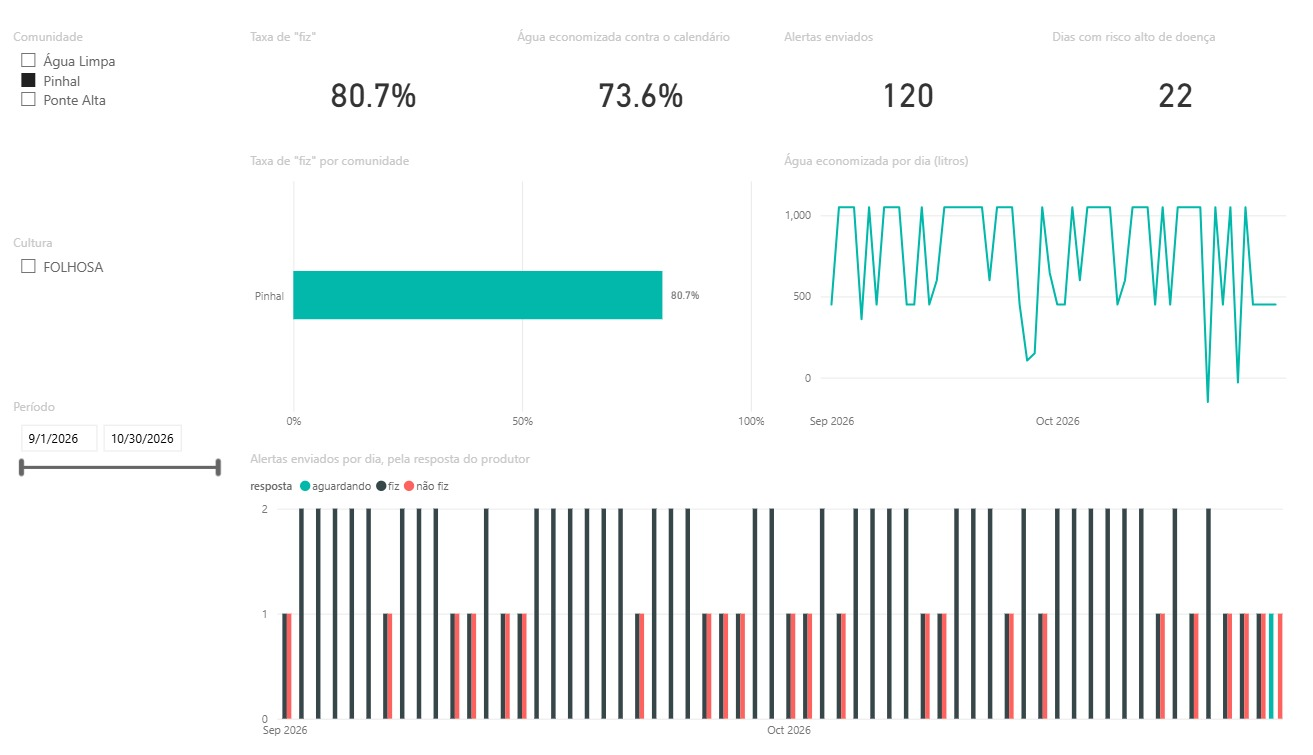

This screenshot's page, from the dashboard's own definition file:
{"tool":"powerbi","page":{"name":"Painel do técnico","canvas":[1280,720],"ordinal":0},"visuals":[{"type":"slicer","title":"Comunidade","fields":{"Values":["dim_canteiro.comunidade"]},"box":[10,10,220,190],"z":0},{"type":"slicer","title":"Cultura","fields":{"Values":["dim_canteiro.cultura"]},"box":[10,210,220,150],"z":1000},{"type":"slicer","title":"Período","fields":{"Values":["calendario.data"]},"box":[10,370,220,140],"z":2000},{"type":"card","title":"Taxa de \"fiz\"","fields":{"Values":["alertas.Taxa de fiz"]},"box":[240,10,250,110],"z":3000},{"type":"card","title":"Água economizada contra o calendário","fields":{"Values":["fato_diario_canteiro.Água economizada (%)"]},"box":[500,10,250,110],"z":4000},{"type":"card","title":"Alertas enviados","fields":{"Values":["alertas.Alertas enviados"]},"box":[760,10,250,110],"z":5000},{"type":"card","title":"Dias com risco alto de doença","fields":{"Values":["fato_diario_canteiro.Dias com risco alto de doença"]},"box":[1020,10,250,110],"z":6000},{"type":"clusteredBarChart","title":"Taxa de \"fiz\" por comunidade","fields":{"Category":["dim_canteiro.comunidade"],"Y":["alertas.Taxa de fiz"]},"box":[240,130,510,280],"z":7000},{"type":"lineChart","title":"Água economizada por dia (litros)","fields":{"Category":["calendario.data"],"Y":["fato_diario_canteiro.Água economizada (L)"]},"box":[760,130,510,280],"z":8000},{"type":"clusteredColumnChart","title":"Alertas enviados por dia, pela resposta do produtor","fields":{"Category":["calendario.data"],"Series":["alertas.resposta"],"Y":["alertas.Alertas enviados"]},"box":[240,420,1030,290],"z":9000}]}

Visuals, with their boxes in screenshot pixels (x1, y1, x2, y2), scaled from the page's 1280x720 canvas onto the 1313x755 screenshot:
"Comunidade" slicer: box=[10, 10, 236, 210]
"Cultura" slicer: box=[10, 220, 236, 378]
"Período" slicer: box=[10, 388, 236, 535]
"Taxa de "fiz"" card: box=[246, 10, 503, 126]
"Água economizada contra o calendário" card: box=[513, 10, 769, 126]
"Alertas enviados" card: box=[780, 10, 1036, 126]
"Dias com risco alto de doença" card: box=[1046, 10, 1303, 126]
"Taxa de "fiz" por comunidade" clusteredBarChart: box=[246, 136, 769, 430]
"Água economizada por dia (litros)" lineChart: box=[780, 136, 1303, 430]
"Alertas enviados por dia, pela resposta do produtor" clusteredColumnChart: box=[246, 440, 1303, 745]
